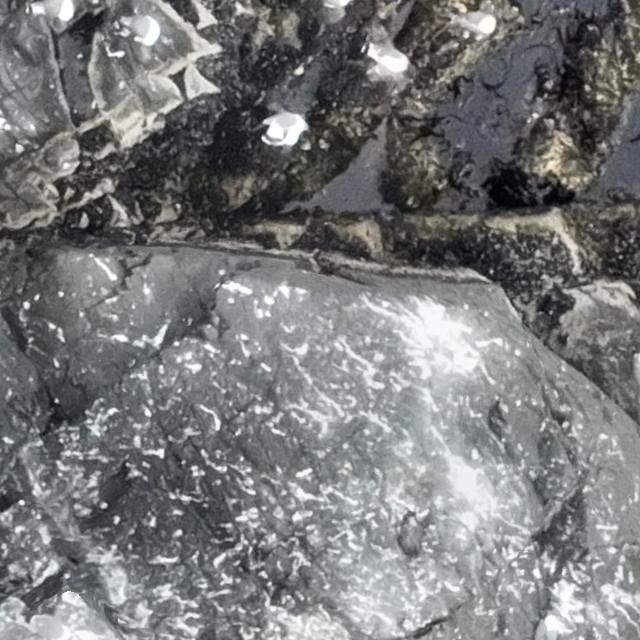umineko: (366, 42, 407, 76), (264, 112, 304, 144), (118, 17, 160, 44), (456, 13, 495, 34), (32, 4, 75, 23)
